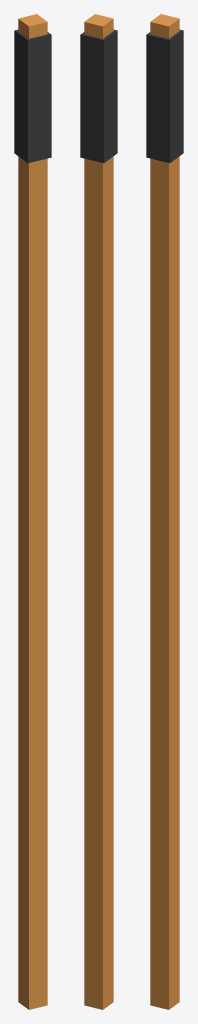
The model's file is road_post.glb.
3 views of the same model, side by side, from view 1: azimuth 30°, elevation 25°; view 2: azimuth 150°, elevation 25°; view 3: azimuth 330°, elevation 25° (orthographic).
Parts seen in each view (by area): view 1: road_post_LOD0; view 2: road_post_LOD0; view 3: road_post_LOD0.
Boxes of the visible parts, bbox=[...] form: road_post_LOD0: bbox=[14, 14, 51, 1009]; road_post_LOD0: bbox=[80, 14, 117, 1009]; road_post_LOD0: bbox=[146, 14, 183, 1009].
Size of what is drawn, in the model's own units: 0.05 by 2 by 0.05.
